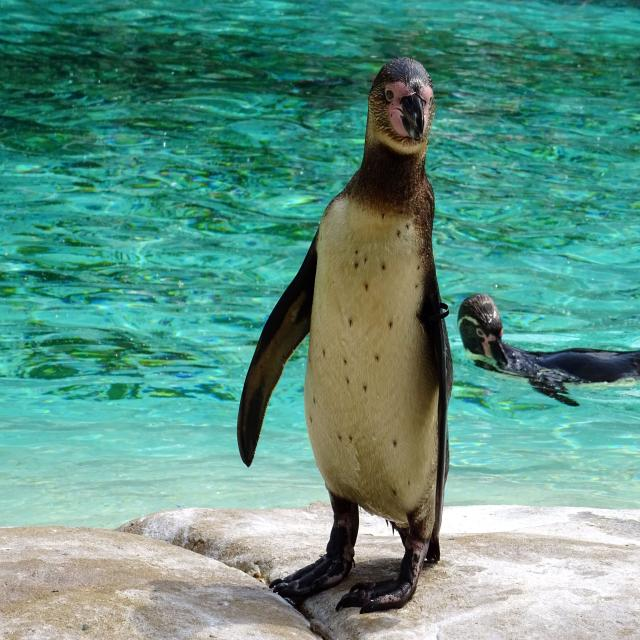Penguins: (270, 47, 467, 630), (456, 282, 640, 416)
